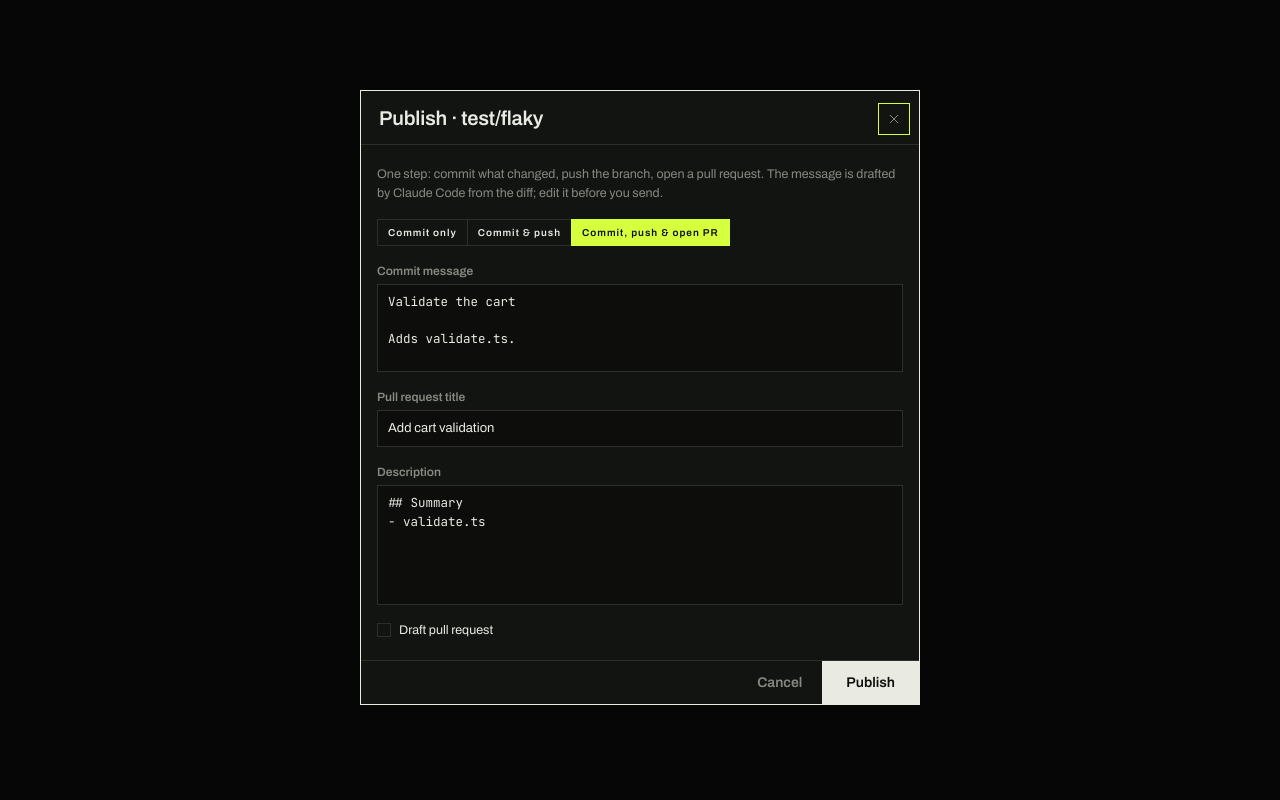
PublishModal › drafts the commit message and, for a lane without a PR, the PR title and description; the lead names the agent
The image size is (1280, 800).
Expected: the dialog "Publish · test/flaky" is shown, [360,90,920,705]
Expected: the text "drafted by Claude Code" is shown, [377,167,895,200]
Click the radio button labelled "Commit only": click(422, 232) [377,218,468,246]
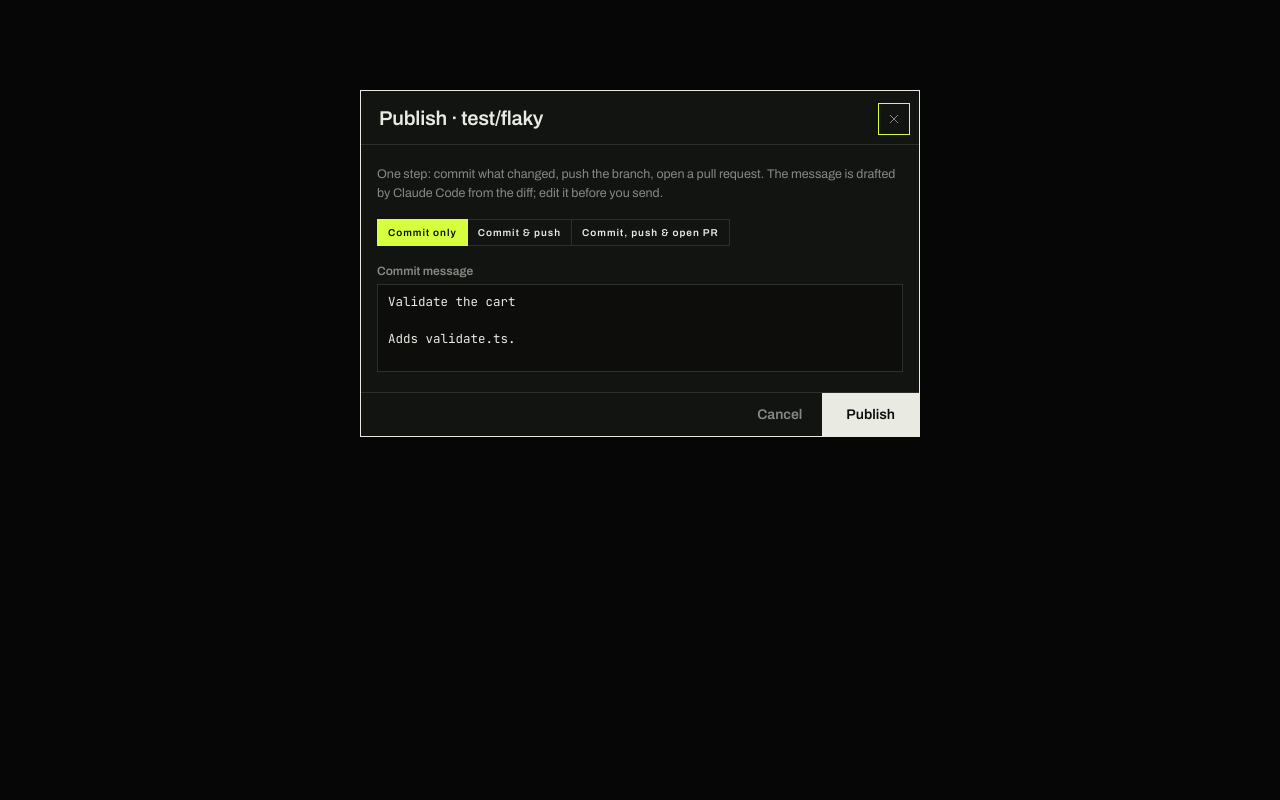
Expected: the label labelled "Pull request title" is gone
Click the radio button labelled "Commit, push & open PR": click(650, 232) [571,218,730,246]
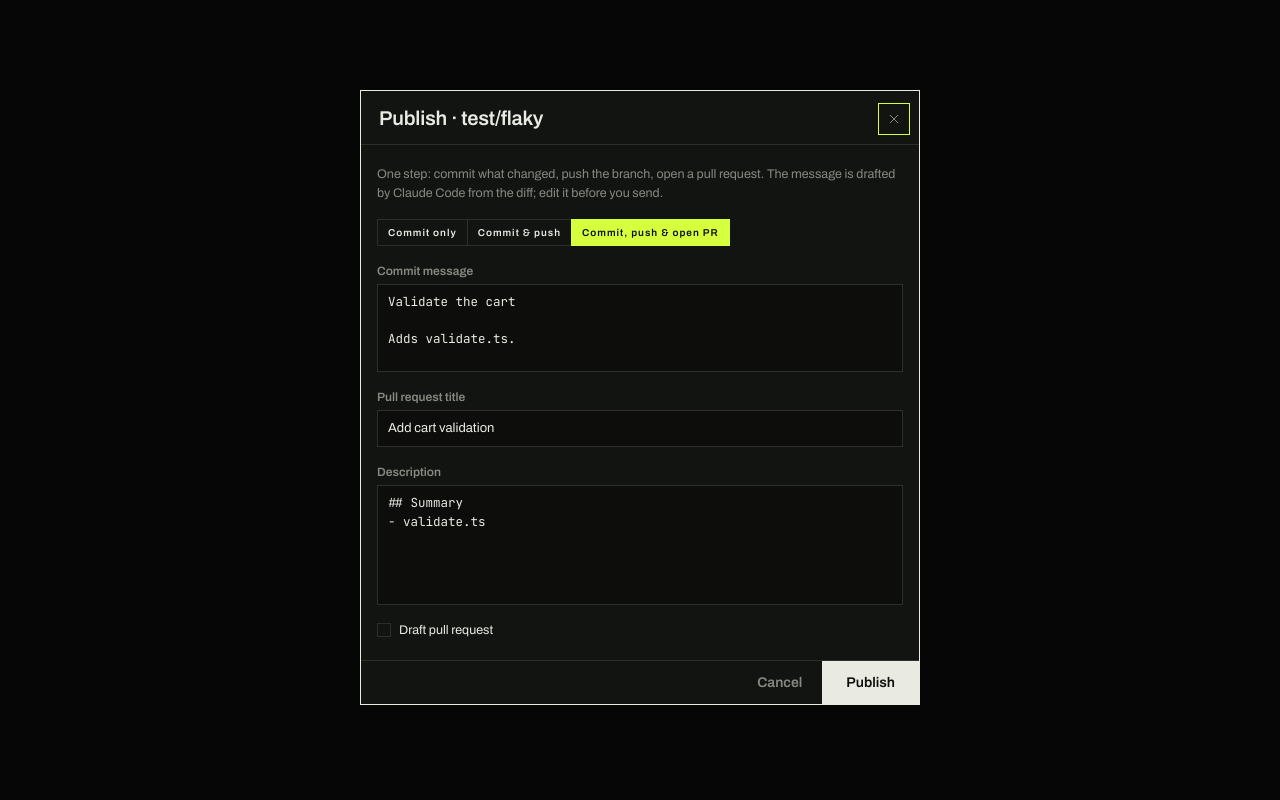
Expected: the field labelled "Pull request title" holds "Add cart validation", [388,418,892,438]
